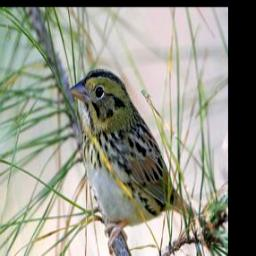Sparrow: (68, 65, 210, 254)
